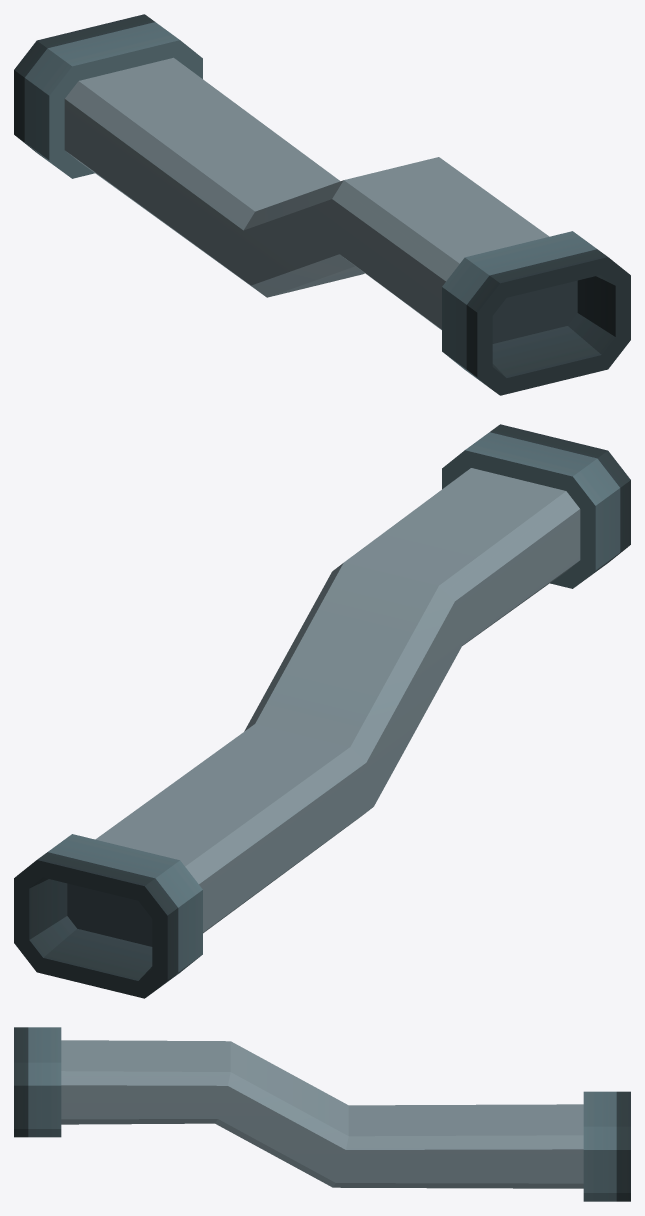
The model's file is Vent_tube_006.glb.
3 views of the same model, one above another, from view 1: azimuth 30°, elevation 25°; view 2: azimuth 150°, elevation 25°; view 3: azimuth 270°, elevation 25° (orthographic). The views are drawn at different scales.
Parts seen in each view (by area): view 1: Vent_tube_006; view 2: Vent_tube_006; view 3: Vent_tube_006.
Part boxes in pixels (<box>): Vent_tube_006: <box>14,14,630,395</box>; Vent_tube_006: <box>14,424,630,998</box>; Vent_tube_006: <box>14,1027,630,1201</box>.
Bounding box in the file's own units: 0.5 × 0.65 × 2.61.
Materials: 1 (1 with a texture image).
